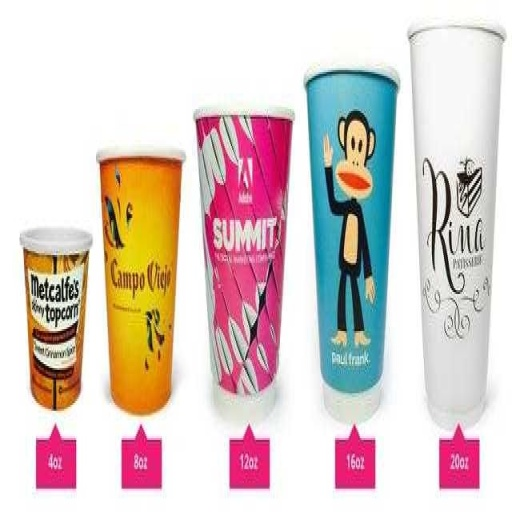cup: (407, 21, 507, 431), (302, 63, 400, 426), (191, 99, 296, 422), (96, 146, 185, 416), (20, 227, 92, 410)
